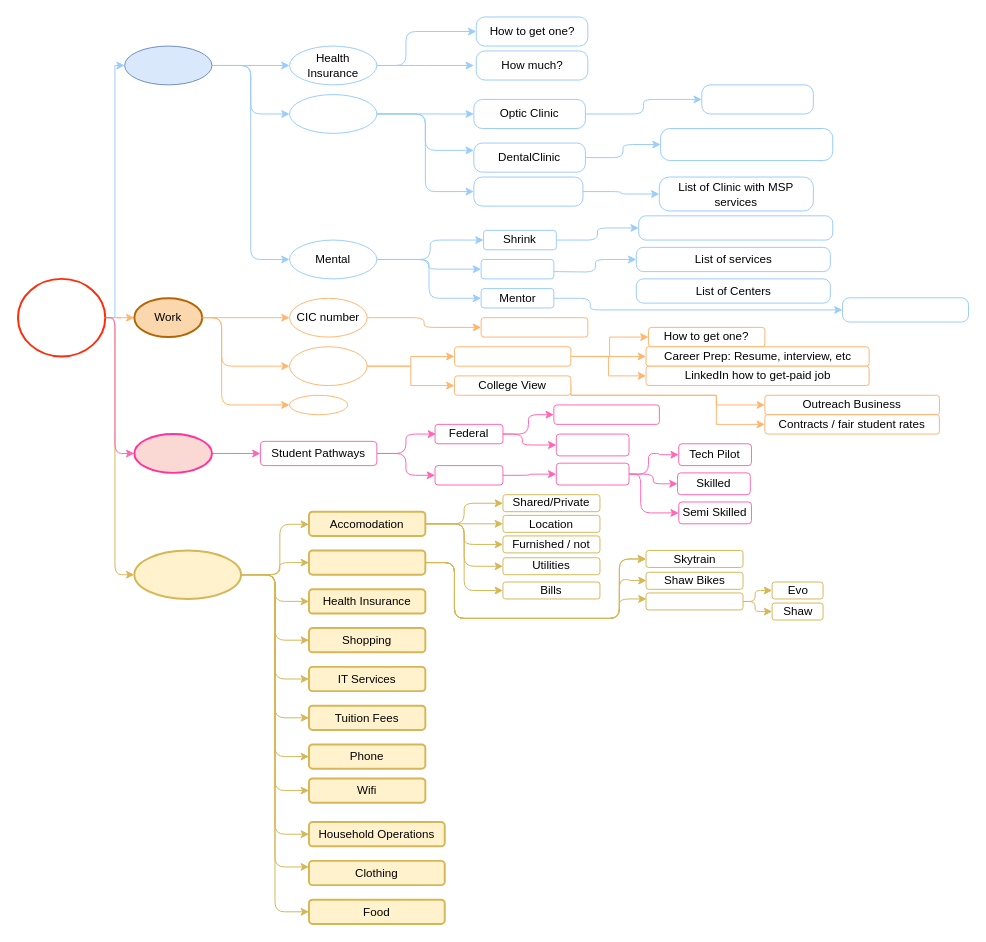
The diagram is 986 pixels wide and 942 high, and some of its shapes have lost their labels. The shapes that lost their labels are listed below. From the top down, each one's centre as x and y in pixels, then its label:
At point 168,65: "Health".
At point 333,113: "Medical Services".
At point 757,99: "UBC Clinic".
At point 746,144: "List of Clinics with services".
At point 528,191: "List of 24/7 clinics".
At point 735,227: "student services as consultant".
At point 517,269: "Meditation".
At point 61,317: "International Students".
At point 534,327: "How to get one".
At point 905,309: "List of contents".
At point 328,366: "get-paid jobs".
At point 512,356: "Student View".
At point 318,404: "co-op".
At point 606,414: "Express Entry".
At point 172,453: "Immigration".
At point 592,444: "PGWP".
At point 468,475: "Provincial".
At point 592,473: "BC PNP".
At point 187,574: "Finance / Cost of Living".
At point 366,562: "Transportation".
At point 694,601: "Cars".
